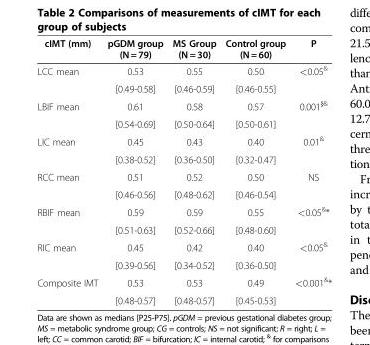table: (36, 37, 331, 305)
table column: (220, 37, 289, 305), (36, 37, 102, 305), (102, 37, 167, 305), (167, 37, 220, 305), (289, 37, 331, 305)
table column header: (36, 37, 331, 61)
table row: (36, 37, 331, 61), (36, 131, 331, 150), (36, 237, 331, 256), (36, 272, 331, 291), (36, 61, 331, 79), (36, 96, 331, 114), (36, 167, 331, 185), (36, 202, 331, 220), (36, 79, 331, 96), (36, 114, 331, 131), (36, 150, 331, 167), (36, 185, 331, 202), (36, 220, 331, 237), (36, 256, 331, 272), (36, 291, 331, 305)
table spanning cell: (36, 131, 102, 167), (36, 61, 102, 96), (36, 96, 102, 131), (36, 167, 102, 202), (36, 202, 102, 237), (36, 237, 102, 272), (36, 272, 102, 305), (289, 131, 331, 167), (289, 61, 331, 96), (289, 96, 331, 131), (289, 167, 331, 202), (289, 202, 331, 237), (289, 237, 331, 272), (289, 272, 331, 305)
